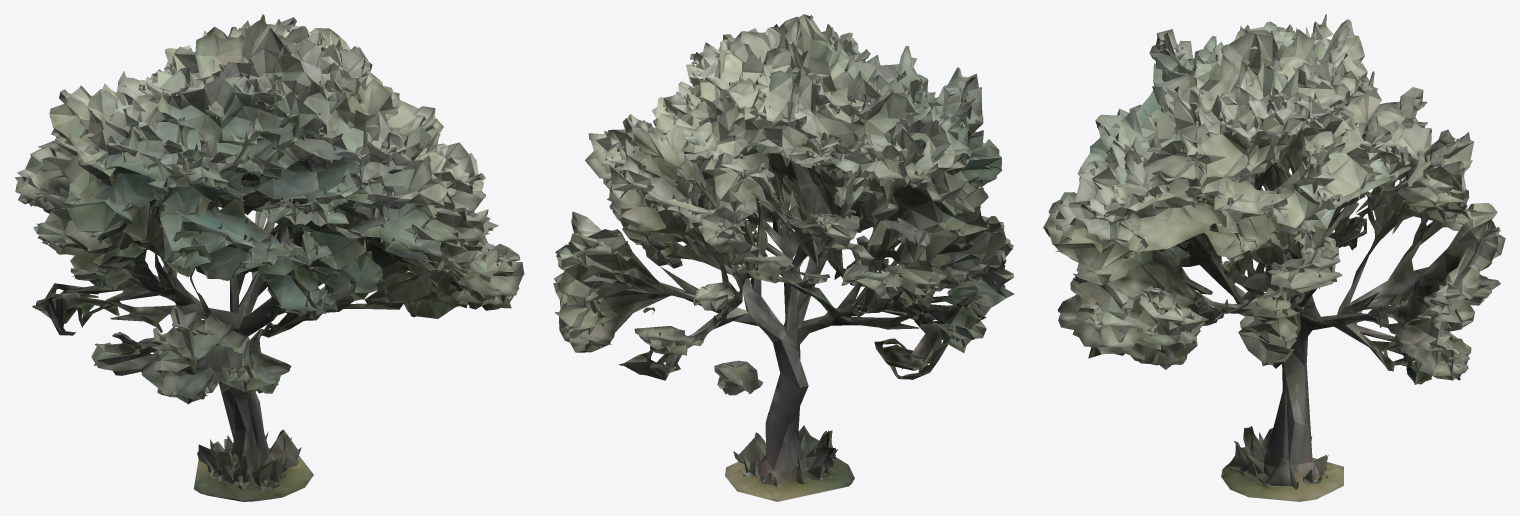
Rendered from prop_tree.glb.
The picture shows the model from 3 angles, left to right: view 1: azimuth 30°, elevation 25°; view 2: azimuth 150°, elevation 25°; view 3: azimuth 270°, elevation 25°; orthographic projection. The views are drawn at different scales.
Parts seen in each view (by area): view 1: world; view 2: world; view 3: world.
Boxes of the visible parts, x1=… form: world: x1=14, y1=14, x2=524, y2=501; world: x1=553, y1=14, x2=1014, y2=501; world: x1=1043, y1=14, x2=1505, y2=501.
Bounding box in the file's own units: 0.8847 × 0.9966 × 0.9331.
1 material, 1 textured.
